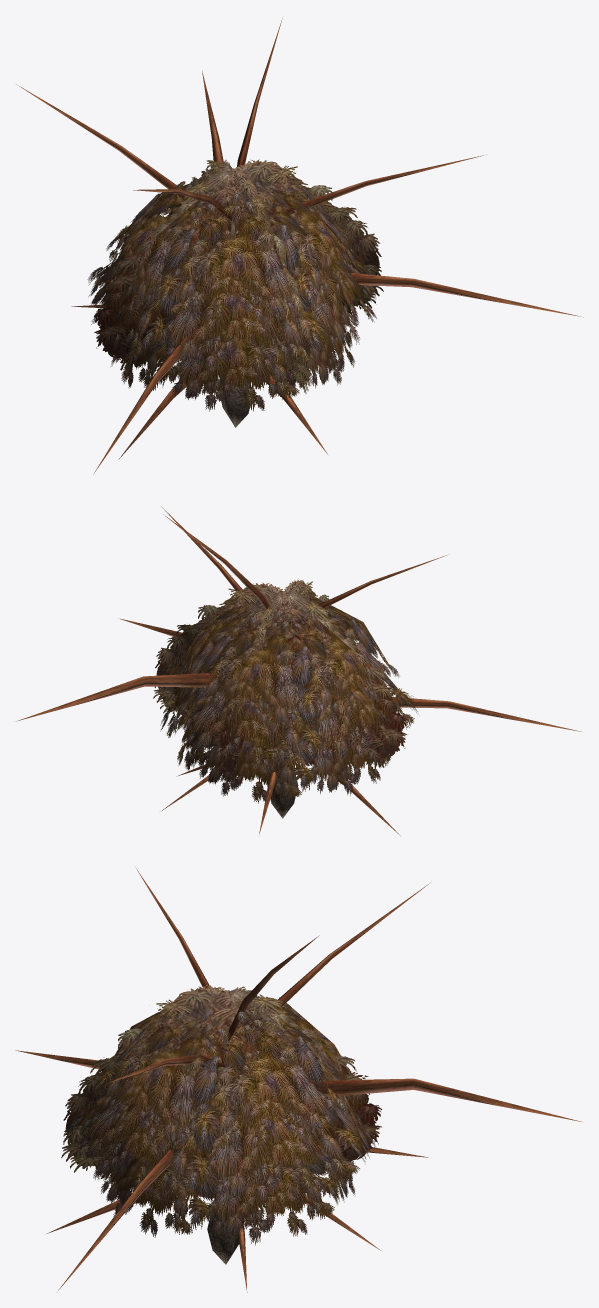
Rendered from shrb_yavn_clawthorn_l0.fbx.
The picture shows the model from 3 angles, top to bottom: view 1: azimuth 30°, elevation 25°; view 2: azimuth 150°, elevation 25°; view 3: azimuth 270°, elevation 25°; orthographic projection. The views are drawn at different scales.
Visible parts, largest first — view 1: mesh_node; view 2: mesh_node; view 3: mesh_node.
Boxes of the visible parts, x1=… form: mesh_node: x1=16, y1=18, x2=583, y2=474; mesh_node: x1=16, y1=506, x2=581, y2=835; mesh_node: x1=15, y1=868, x2=581, y2=1292.
Size of the model in its own units: 3.43 by 2.29 by 3.13.
